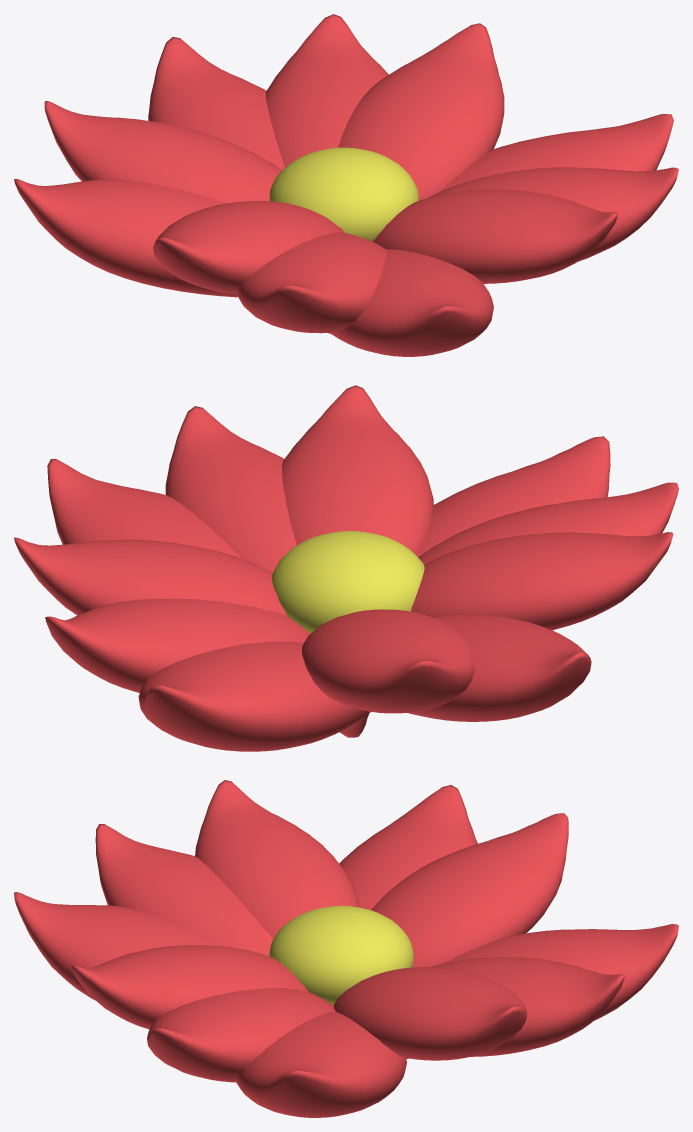
File: Fleur_2.fbx
3 views of the same model, one above another, from view 1: azimuth 30°, elevation 25°; view 2: azimuth 150°, elevation 25°; view 3: azimuth 270°, elevation 25° (orthographic). The views are drawn at different scales.
Visible parts, largest first — view 1: Sphere.004, Sphere.005; view 2: Sphere.004, Sphere.005; view 3: Sphere.004, Sphere.005.
Boxes of the visible parts, <box> form: Sphere.004: <box>14,14,678,356</box>; Sphere.005: <box>269,147,418,241</box>; Sphere.004: <box>14,385,678,751</box>; Sphere.005: <box>272,531,424,633</box>; Sphere.004: <box>14,780,678,1117</box>; Sphere.005: <box>269,905,413,1005</box>.
Size of the model in its own units: 118 by 39.24 by 122.
